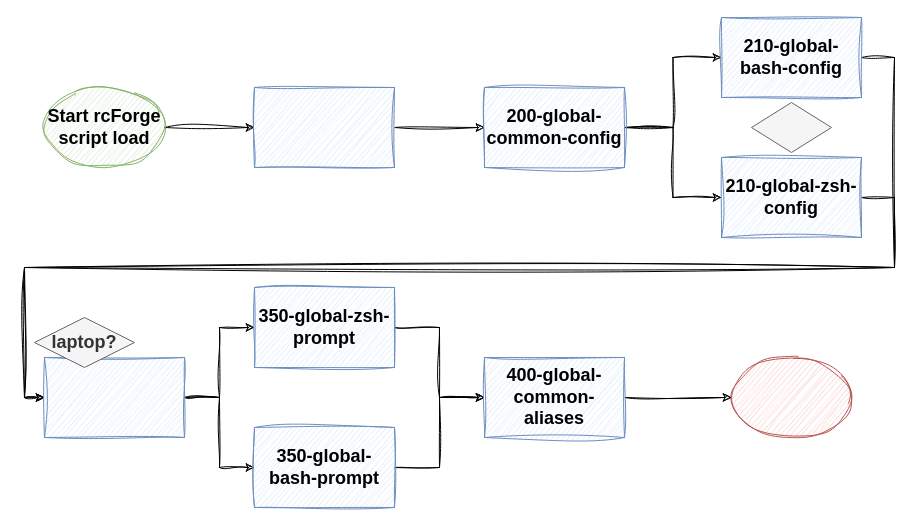
Image size: 920x525. Some labels were removed from this diagram. Here are the shapes that lost their labels. From the top down, the centre of each, then its label:
At [324,127]: "050-global-common-path".
At [791,127]: "OR".
At [114,397]: "220-laptop-bash-config".
At [791,397]: "End rcForge script load".
